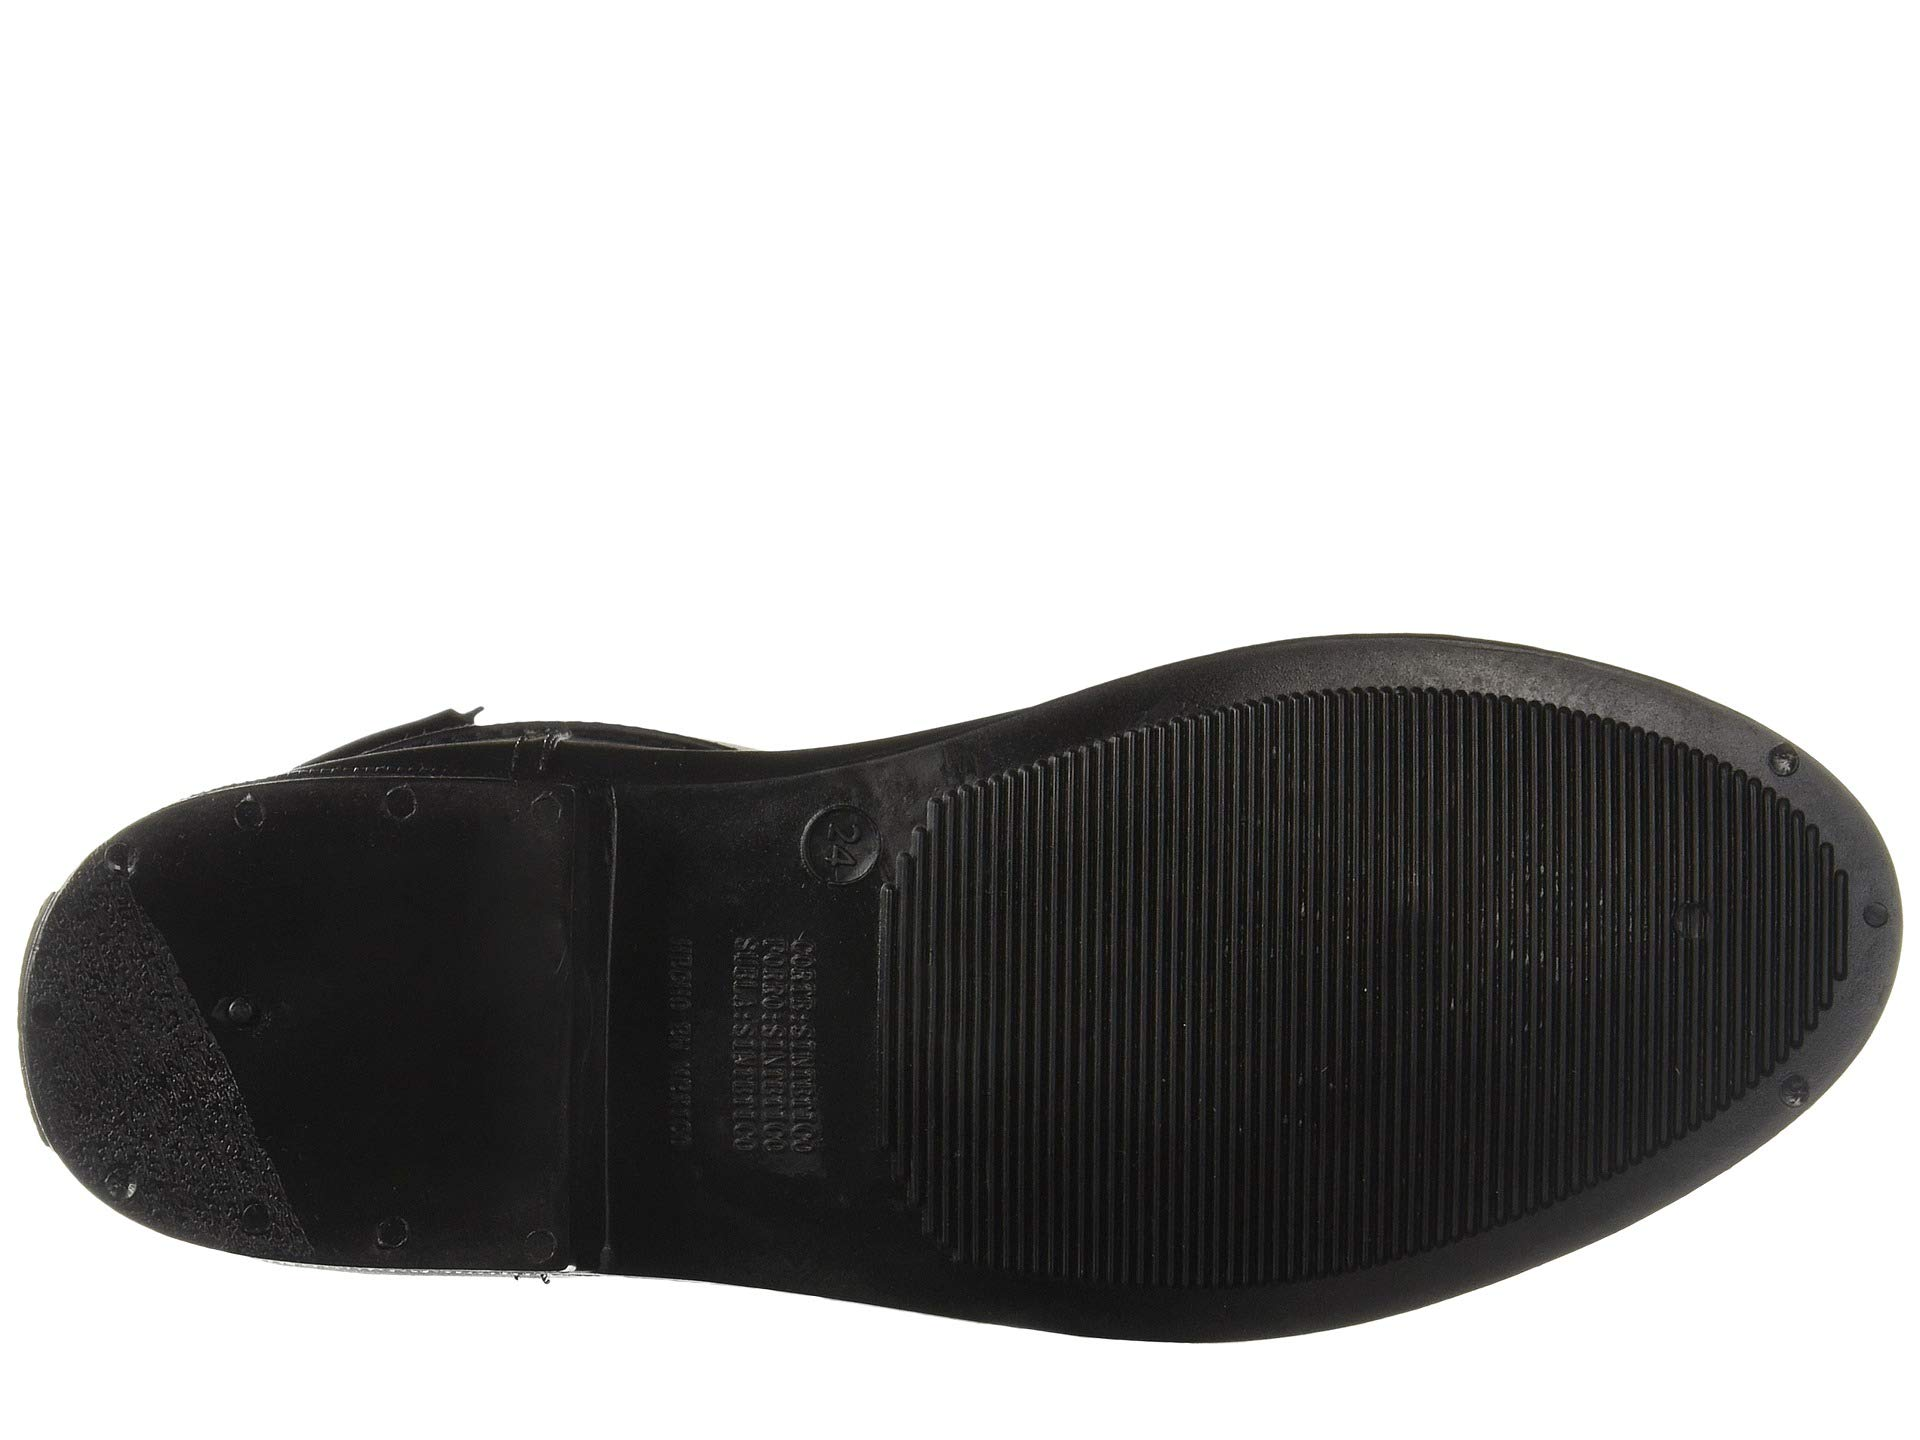circle: (779, 781, 906, 902)
line: (1085, 827, 1445, 1151)
text: (779, 781, 906, 902)
